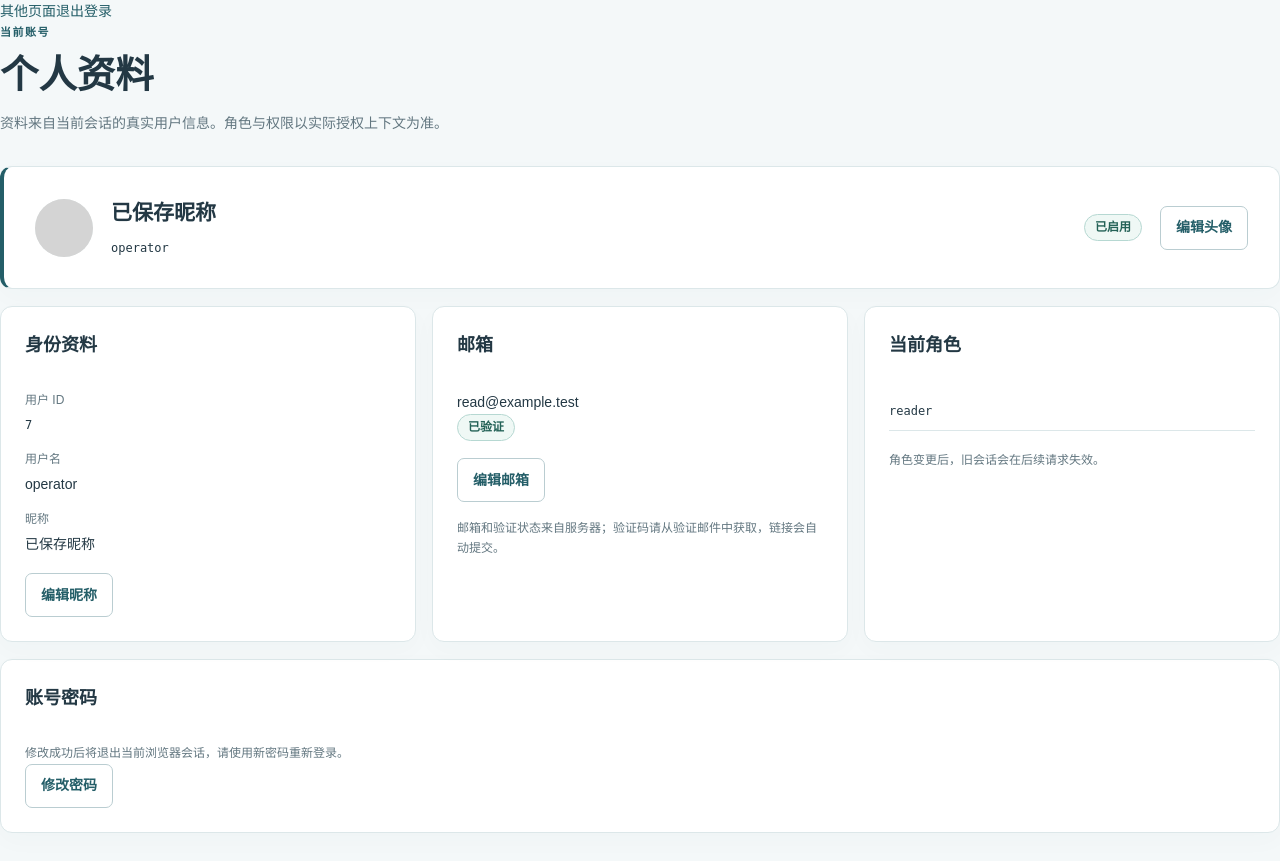
Test: rendered profile self-service › isolates invalid upload max_bytes=null and retries the real policy without disabling reset
Click the button "编辑头像" at (1204, 228), box [1160,206,1248,250]
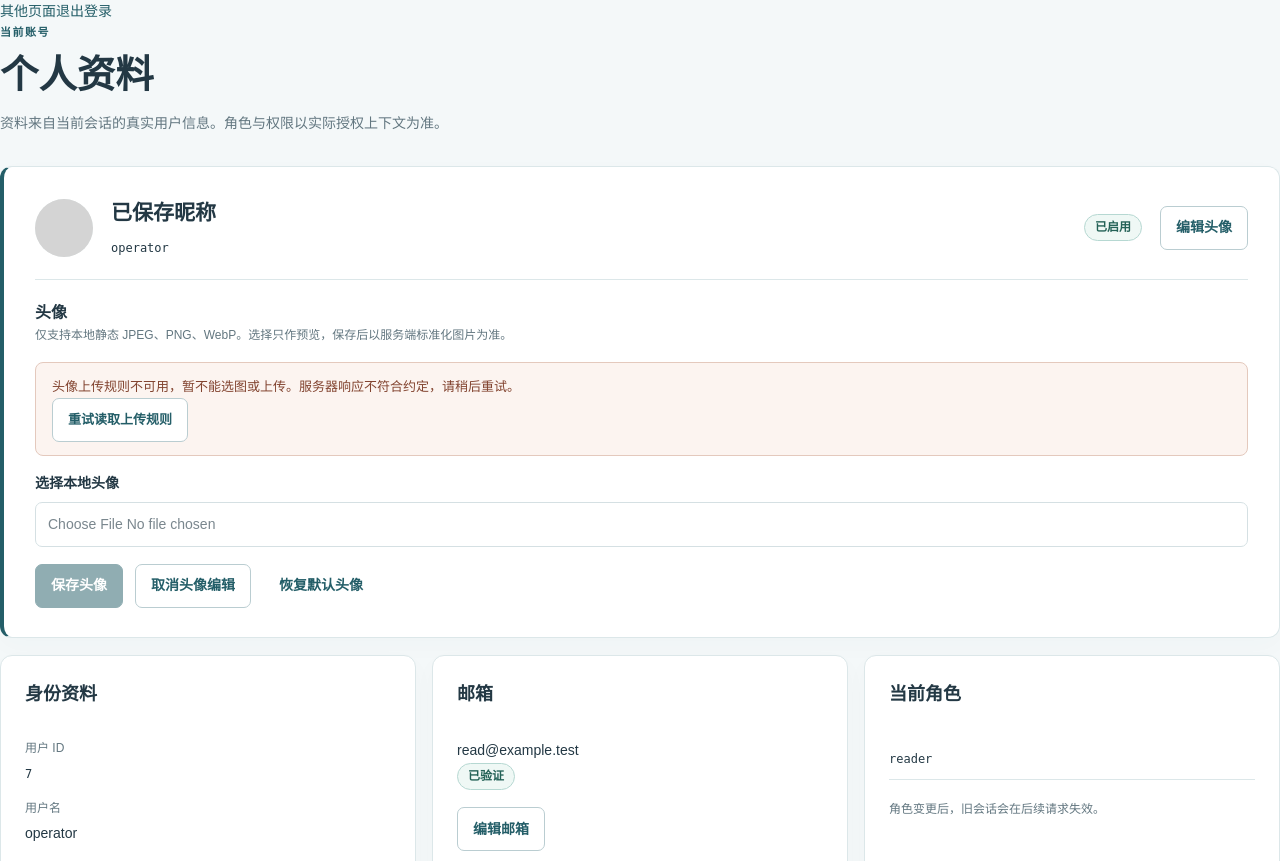
Check: the file field labelled "选择本地头像" is disabled, box [35,502,1248,547]
Check: the button "恢复默认头像" is enabled, box [263,564,379,608]
Click the button "重试读取上传规则" at (120, 420), box [52,398,188,442]
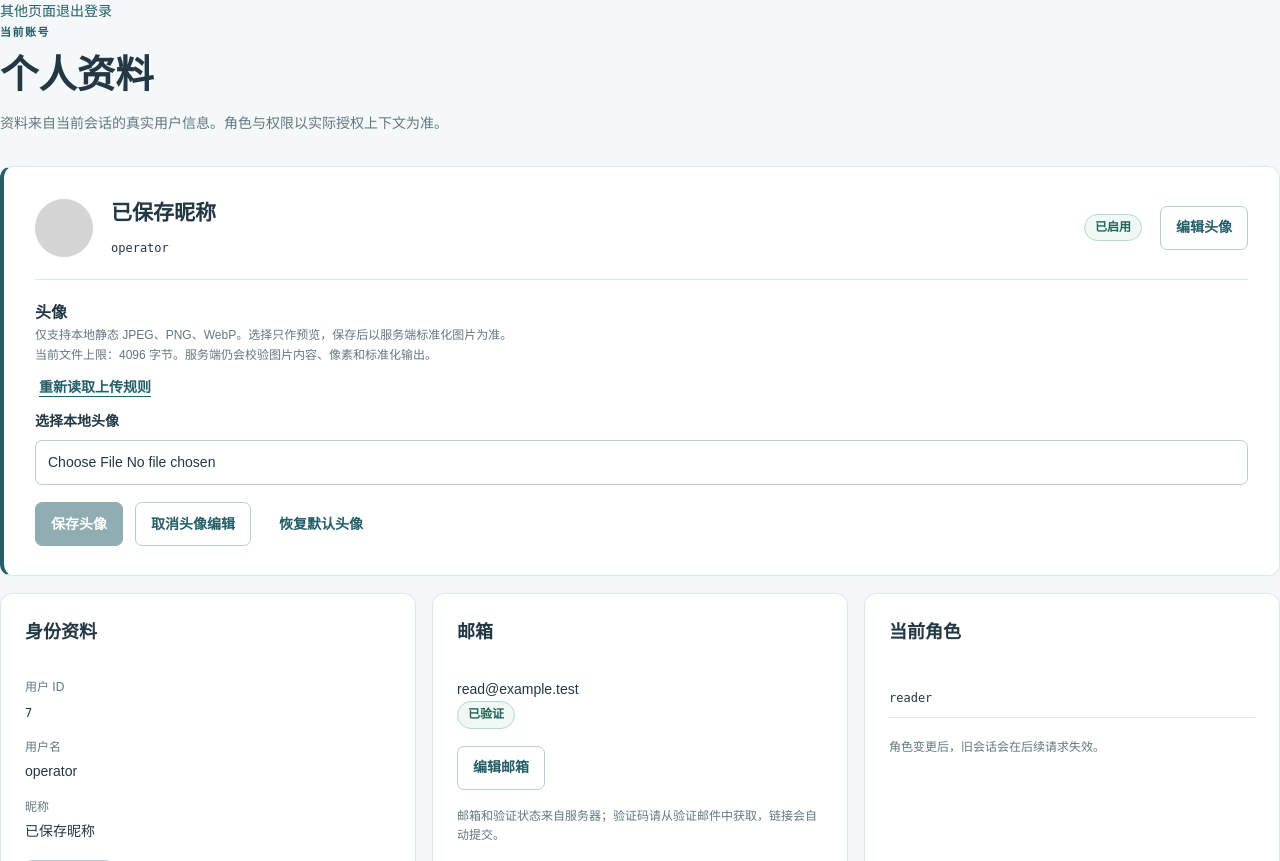
Check: the file field labelled "选择本地头像" is enabled, box [35,440,1248,485]
Check: the text "4096 字节" is shown, box [35,348,437,362]
